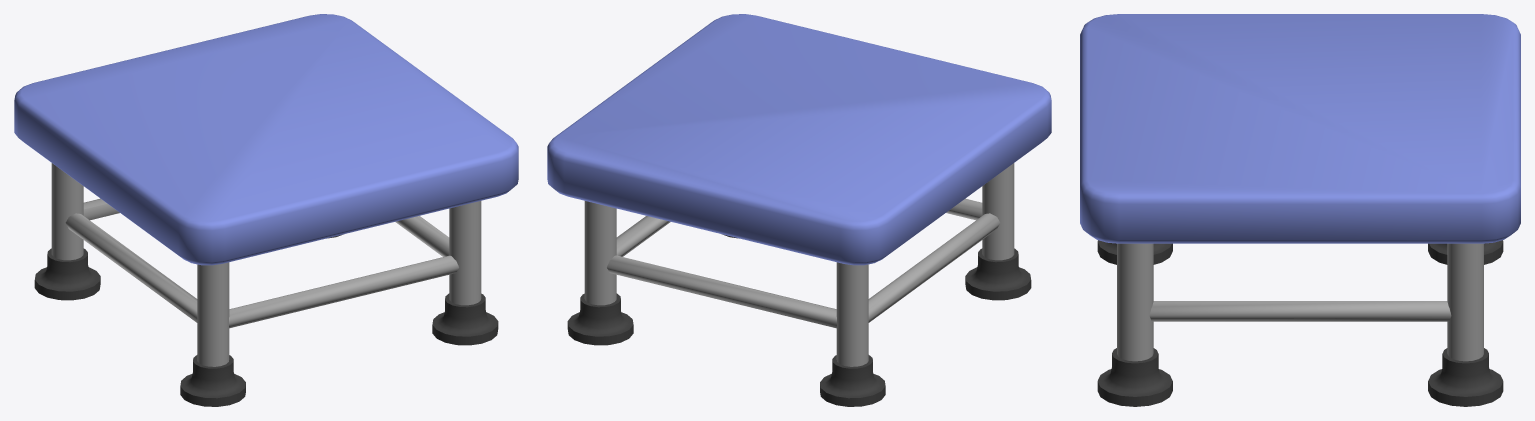
File: SupportingStool.fbx
3 renders of one model, left to right at view 1: azimuth 30°, elevation 25°; view 2: azimuth 150°, elevation 25°; view 3: azimuth 270°, elevation 25°, orthographic. The views are drawn at different scales.
Visible parts, largest first — view 1: SupportingStool; view 2: SupportingStool; view 3: SupportingStool.
Boxes of the visible parts, x1,y1,x2,y2 form: SupportingStool: (14,14,518,406); SupportingStool: (547,14,1051,406); SupportingStool: (1080,14,1520,406).
Size of the model in its own units: 50 by 27.18 by 50.
